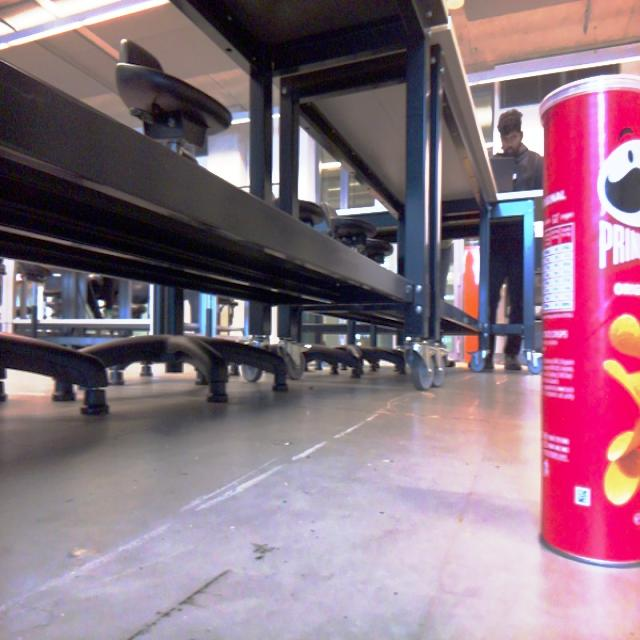redpringles: (526, 67, 640, 584)
